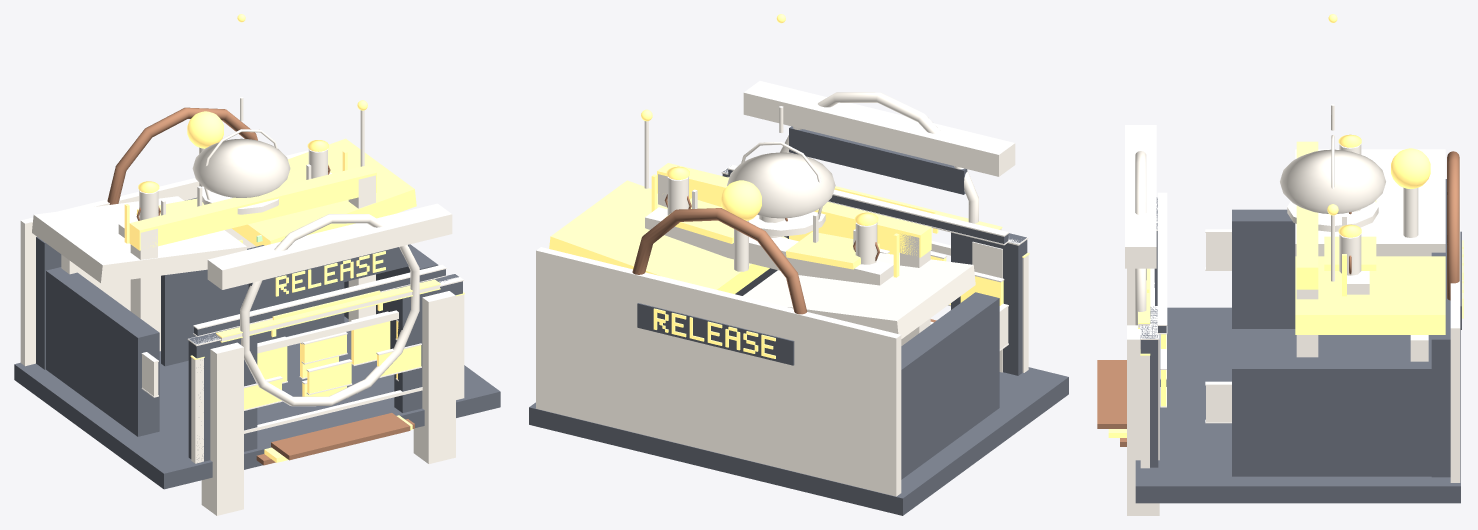
Rendered from release-gatehouse.glb.
3 renders of one model, left to right at view 1: azimuth 30°, elevation 25°; view 2: azimuth 150°, elevation 25°; view 3: azimuth 270°, elevation 25°, orthographic. The views are drawn at different scales.
Visible parts, largest first — view 1: release-gatehouse:near:surface:1, release-gatehouse:near:surface:0, release-gatehouse:near:surface:2, release-gatehouse:near:surface:3, release-gatehouse:city-identity:release-ring, release-gatehouse:far:surface:0; view 2: release-gatehouse:near:surface:1, release-gatehouse:near:surface:0, release-gatehouse:near:surface:2, release-gatehouse:city-identity:release-ring; view 3: release-gatehouse:near:surface:0, release-gatehouse:near:surface:1, release-gatehouse:near:surface:2, release-gatehouse:near:surface:3, release-gatehouse:city-identity:release-ring, release-gatehouse:far:surface:0.
Part boxes in pixels (left/top/right/bottom): release-gatehouse:near:surface:1: left=20, top=97, right=464, bottom=515; release-gatehouse:near:surface:0: left=14, top=197, right=500, bottom=489; release-gatehouse:near:surface:2: left=124, top=14, right=464, bottom=462; release-gatehouse:near:surface:3: left=136, top=165, right=414, bottom=465; release-gatehouse:city-identity:release-ring: left=107, top=107, right=257, bottom=204; release-gatehouse:far:surface:0: left=61, top=228, right=255, bottom=351; release-gatehouse:near:surface:1: left=536, top=81, right=1028, bottom=496; release-gatehouse:near:surface:0: left=529, top=126, right=1068, bottom=515; release-gatehouse:near:surface:2: left=549, top=14, right=1029, bottom=358; release-gatehouse:city-identity:release-ring: left=632, top=208, right=807, bottom=314; release-gatehouse:near:surface:0: left=1135, top=179, right=1461, bottom=503; release-gatehouse:near:surface:1: left=1125, top=104, right=1460, bottom=515; release-gatehouse:near:surface:2: left=1108, top=14, right=1463, bottom=437; release-gatehouse:near:surface:3: left=1097, top=212, right=1351, bottom=446; release-gatehouse:city-identity:release-ring: left=1447, top=151, right=1459, bottom=300; release-gatehouse:far:surface:0: left=1410, top=335, right=1428, bottom=361.
Bounding box in the file's own units: 13.9 × 15.9 × 12.05.
